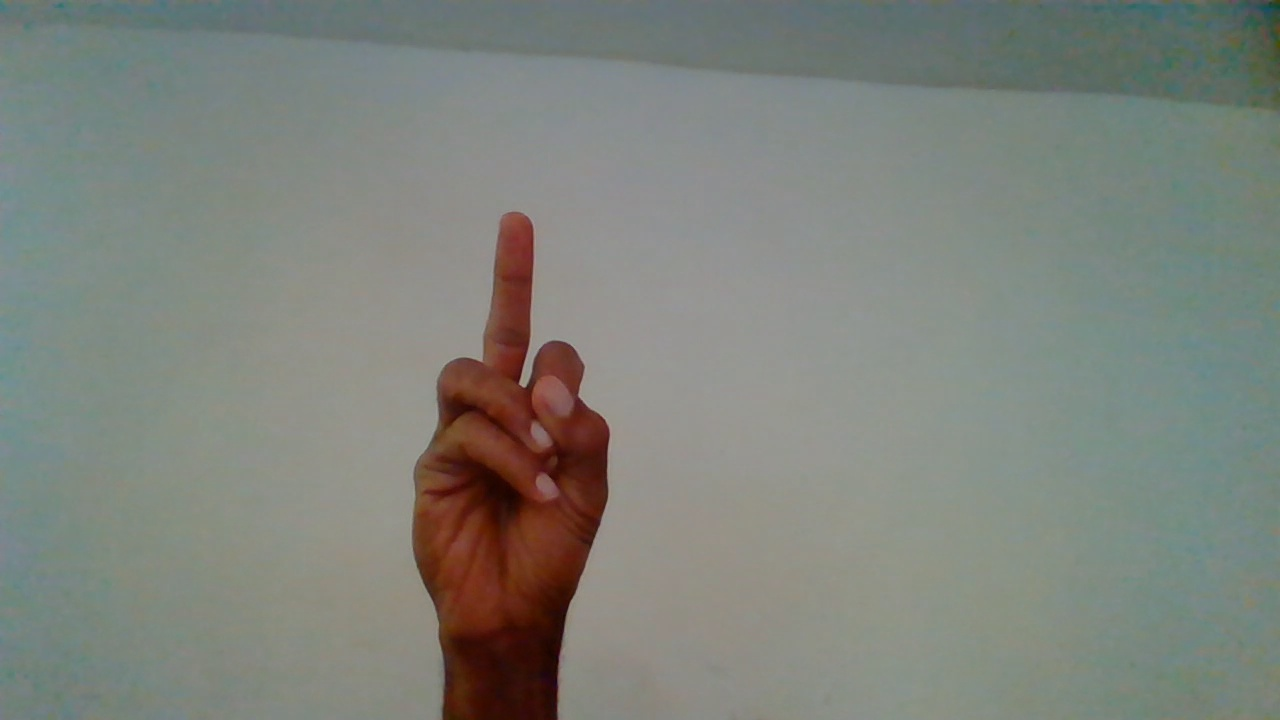he: (406, 211, 623, 709)
